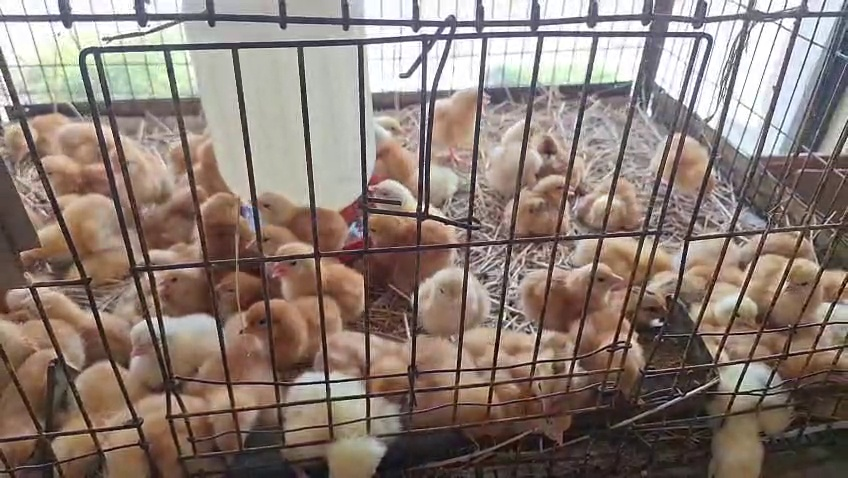Pollo: (278, 367, 413, 478), (178, 337, 276, 462), (708, 356, 807, 478), (40, 362, 142, 477), (517, 248, 624, 335), (402, 331, 486, 441), (216, 297, 321, 384), (18, 281, 134, 357), (267, 245, 366, 332), (489, 314, 588, 401), (575, 320, 674, 407), (106, 391, 205, 478), (310, 316, 409, 403), (123, 309, 221, 396), (646, 130, 735, 219), (253, 181, 355, 254), (408, 256, 496, 335), (367, 210, 455, 289), (499, 328, 583, 408), (753, 246, 830, 333), (418, 74, 494, 161), (99, 130, 178, 213), (475, 104, 550, 191), (0, 345, 51, 471), (33, 201, 127, 269), (480, 391, 578, 451), (502, 167, 581, 241), (35, 121, 109, 198), (183, 188, 257, 261), (572, 231, 675, 283), (376, 130, 452, 195), (692, 278, 772, 338), (575, 170, 649, 230), (146, 176, 206, 245), (608, 281, 681, 337), (365, 184, 454, 229), (137, 261, 208, 316), (215, 258, 270, 321), (536, 127, 591, 179), (0, 115, 55, 161), (370, 93, 420, 141), (126, 248, 189, 280)
